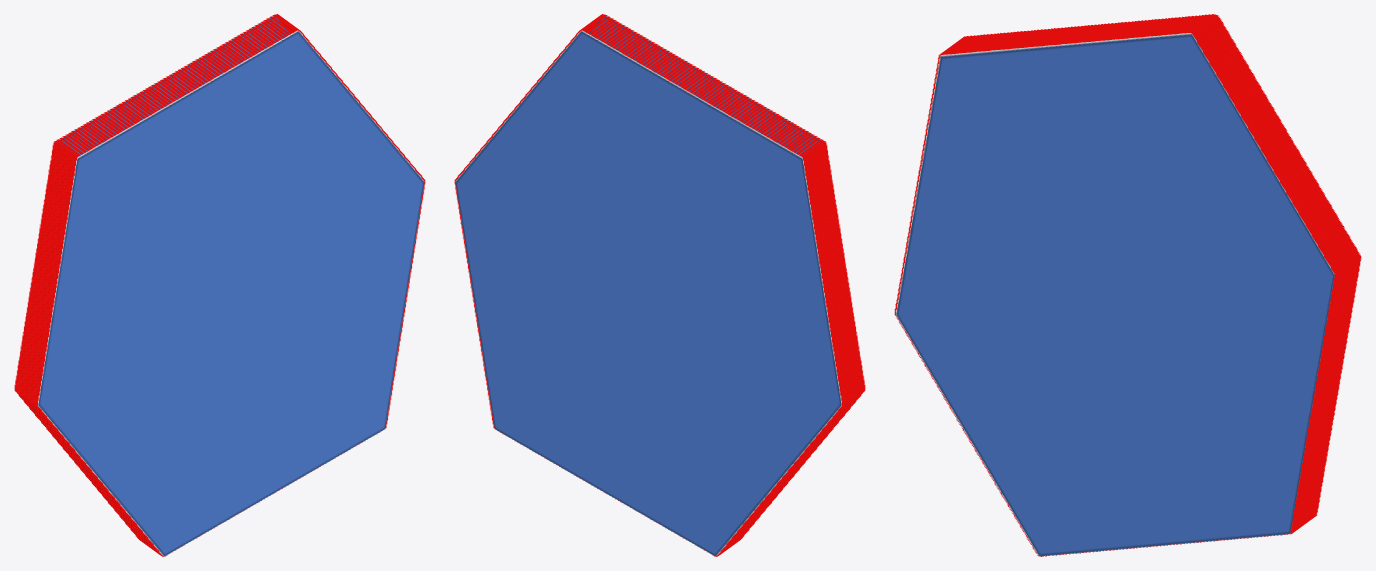
File: simple_model13.glb
3 renders of one model, left to right at view 1: azimuth 30°, elevation 25°; view 2: azimuth 150°, elevation 25°; view 3: azimuth 330°, elevation 25°, orthographic. The views are drawn at different scales.
Size of the model in its own units: 1.01 by 1.22 by 0.1.
Materials: 3 (2 with a texture image).
